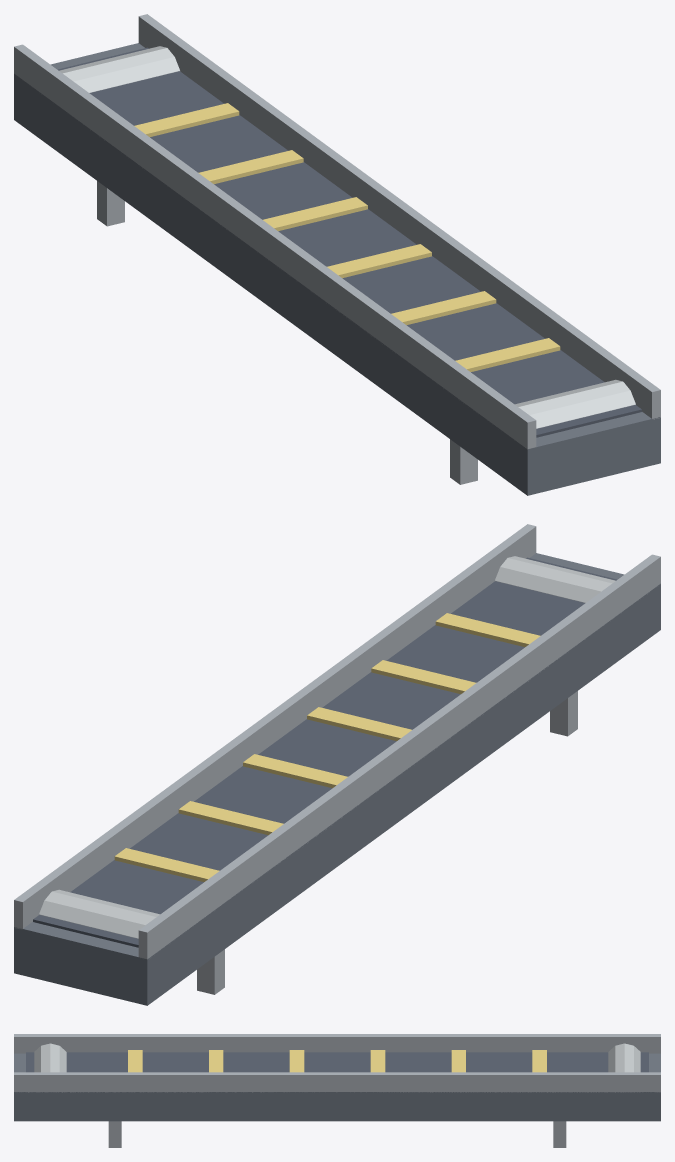
File: cinta_transportadora.glb
The picture shows the model from 3 angles, top to bottom: view 1: azimuth 30°, elevation 25°; view 2: azimuth 150°, elevation 25°; view 3: azimuth 270°, elevation 25°; orthographic projection. The views are drawn at different scales.
Visible parts, largest first — view 1: cinta_transportadora; view 2: cinta_transportadora; view 3: cinta_transportadora.
Boxes of the visible parts, box(x1,y1,x2,y2) form: cinta_transportadora: box(14, 14, 660, 495); cinta_transportadora: box(14, 524, 660, 1005); cinta_transportadora: box(14, 1034, 660, 1147).
Bounding box in the file's own units: 1.2 × 1.03 × 8.
